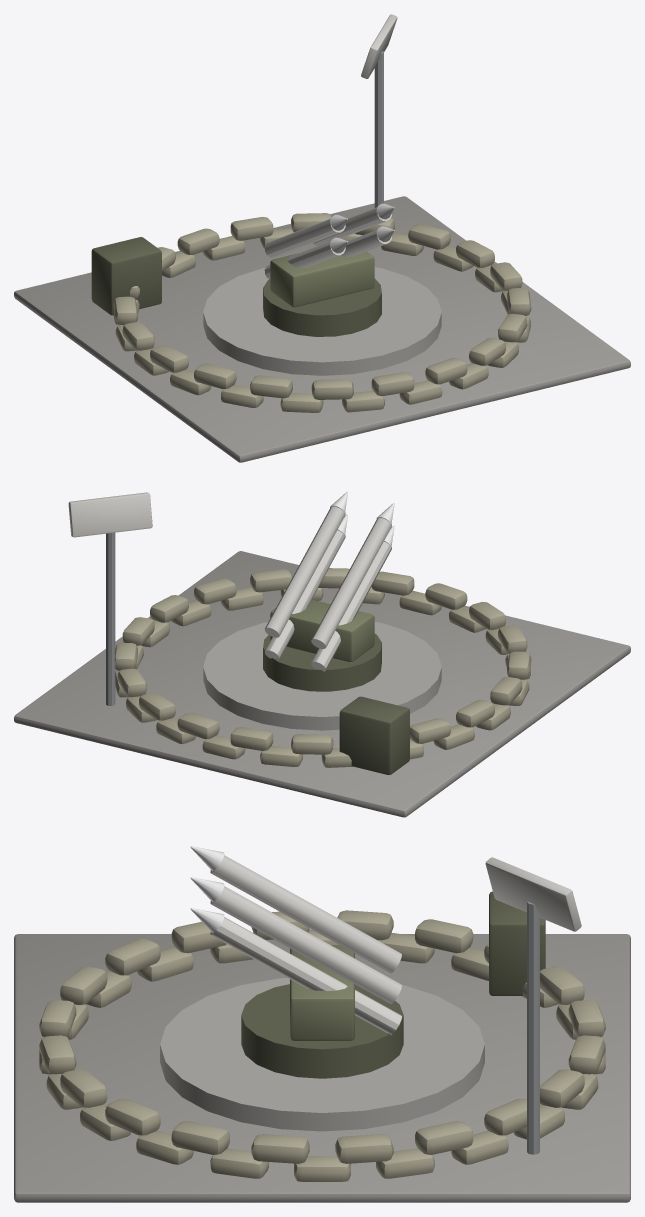
The model's file is aa_site.glb.
The picture shows the model from 3 angles, top to bottom: view 1: azimuth 30°, elevation 25°; view 2: azimuth 150°, elevation 25°; view 3: azimuth 270°, elevation 25°; orthographic projection. The views are drawn at different scales.
Visible parts, largest first — view 1: body, turret; view 2: body, turret; view 3: body, turret.
Part boxes in pixels (x1,y1,x2,y2): body: (14,14,630,462); turret: (263,203,394,336); body: (14,492,630,817); turret: (263,491,394,691); body: (14,857,630,1202); turret: (190,846,403,1078).
Bounding box in the file's own units: 7.6 × 3.95 × 7.6.
